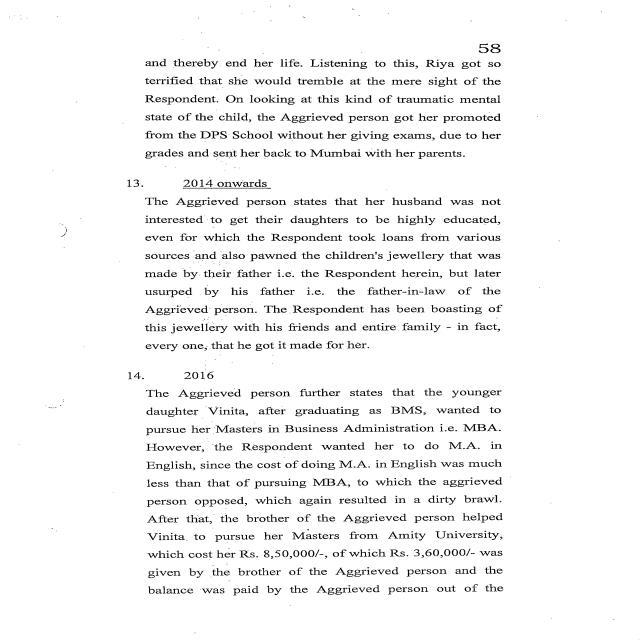page-number: (389, 0, 638, 58)
